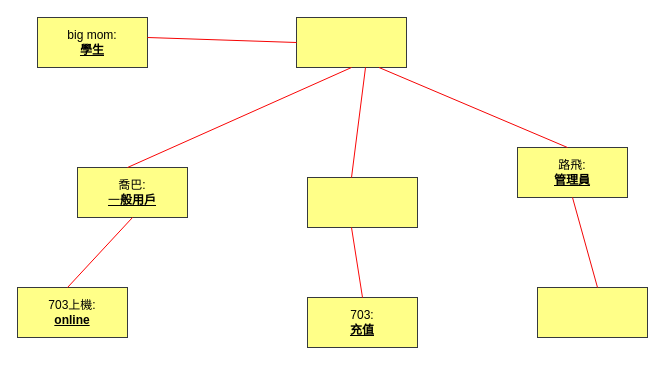
Image size: 665x365. Some labels were removed from this diagram. Each missing label, with the box of its shape:
703:card: no: (296, 16, 406, 68)
今日帳單: CheceDay: (536, 286, 648, 338)
索隆: 操作員: (306, 176, 418, 228)
